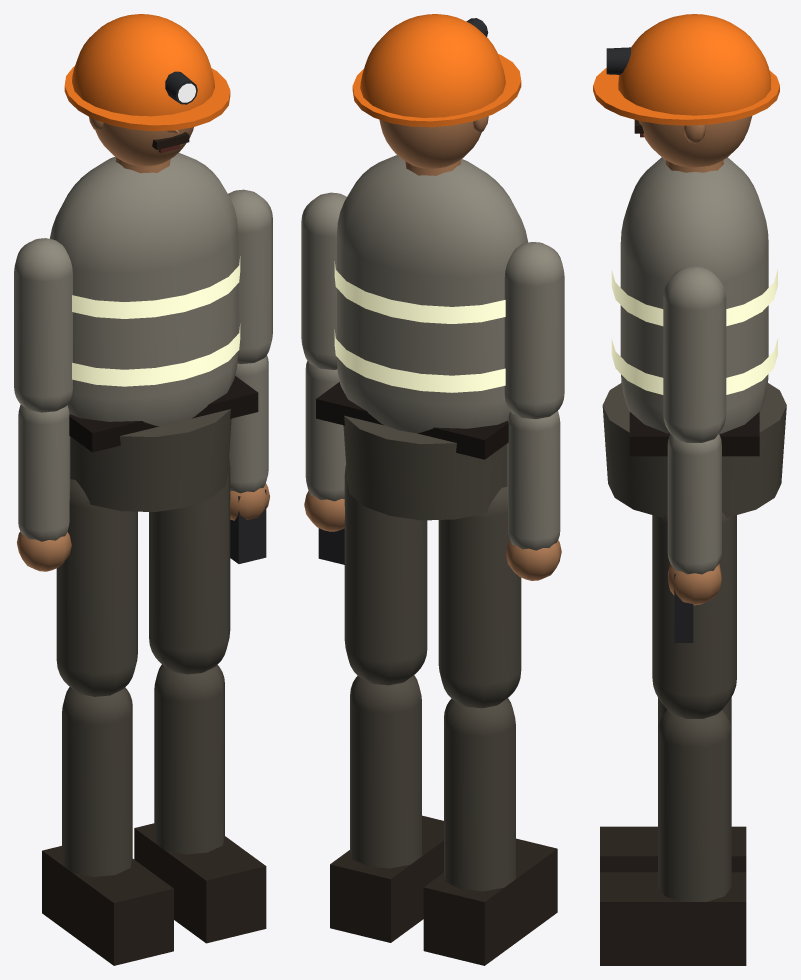
File: worker_bigode.glb
3 views of the same model, side by side, from view 1: azimuth 30°, elevation 25°; view 2: azimuth 150°, elevation 25°; view 3: azimuth 270°, elevation 25° (orthographic).
Parts seen in each view (by area): view 1: worker_torso, worker_legs_0_knee, worker_legs_1_knee, worker_head, worker_legs_0_hip, worker_legs_1_hip, worker_arms_0_sh, worker_arms_0_el, worker_arms_1_sh, worker_arms_1_el, worker_prop, worker_arms_0_hand (+1 smaller); view 2: worker_torso, worker_legs_0_knee, worker_legs_1_knee, worker_head, worker_legs_0_hip, worker_legs_1_hip, worker_arms_0_sh, worker_arms_0_el, worker_arms_1_sh, worker_arms_1_el, worker_arms_0_hand, worker_arms_1_hand (+1 smaller); view 3: worker_torso, worker_legs_1_knee, worker_head, worker_legs_1_hip, worker_arms_1_sh, worker_arms_1_el, worker_legs_0_knee, worker_arms_1_hand, worker_prop.
Boxes of the visible parts, <box> form: worker_torso: <box>50,152,258,511</box>; worker_legs_0_knee: <box>42,687,173,965</box>; worker_legs_1_knee: <box>134,664,266,943</box>; worker_head: <box>64,14,230,166</box>; worker_legs_0_hip: <box>56,479,137,696</box>; worker_legs_1_hip: <box>149,458,230,674</box>; worker_arms_0_sh: <box>14,238,72,412</box>; worker_arms_0_el: <box>18,404,70,541</box>; worker_arms_1_sh: <box>228,189,272,364</box>; worker_arms_1_el: <box>229,355,268,493</box>; worker_prop: <box>230,489,266,563</box>; worker_arms_0_hand: <box>17,531,71,571</box>; worker_torso: <box>316,155,528,520</box>; worker_legs_0_knee: <box>423,698,557,965</box>; worker_legs_1_knee: <box>330,675,443,942</box>; worker_head: <box>352,14,521,168</box>; worker_legs_0_hip: <box>438,487,521,708</box>; worker_legs_1_hip: <box>344,466,427,685</box>; worker_arms_0_sh: <box>504,242,564,419</box>; worker_arms_0_el: <box>507,411,560,550</box>; worker_arms_1_sh: <box>301,192,346,369</box>; worker_arms_1_el: <box>305,361,345,501</box>; worker_arms_0_hand: <box>506,540,561,580</box>; worker_arms_1_hand: <box>304,491,344,531</box>; worker_torso: <box>602,157,786,517</box>; worker_legs_1_knee: <box>600,710,746,965</box>; worker_head: <box>593,14,779,167</box>; worker_legs_1_hip: <box>652,512,736,718</box>; worker_arms_1_sh: <box>663,266,726,442</box>; worker_arms_1_el: <box>667,434,721,574</box>; worker_legs_0_knee: <box>600,697,746,872</box>; worker_arms_1_hand: <box>668,563,721,605</box>; worker_prop: <box>674,573,693,642</box>.
Size of the model in its own units: 0.5403 by 1.85 by 0.3575.
